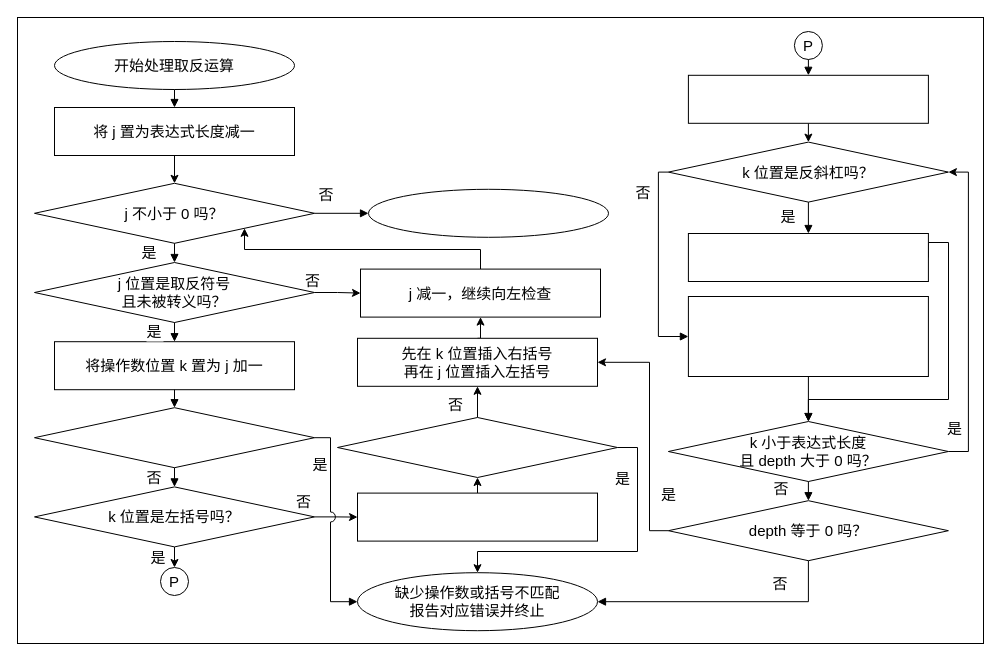
This 1001x661 diagram has some shape labels left out. Each missing label, with the box of its shape:
k 大于表达式长度吗？: (336, 416, 618, 478)
k 等于表达式长度吗？: (34, 407, 314, 468)
取反预处理结束: (368, 188, 608, 237)
将括号层数 depth 初始化为 0: (687, 74, 928, 123)
左括号使 depth 加一 右括号使 depth 减一 随后 k 加一: (687, 296, 928, 376)
普通字符使 k 加一 转义序列使 k 增加 2: (356, 492, 598, 541)
确认后面有字符，否则报错 k 增加 2，跳过转义序列: (687, 232, 928, 282)
